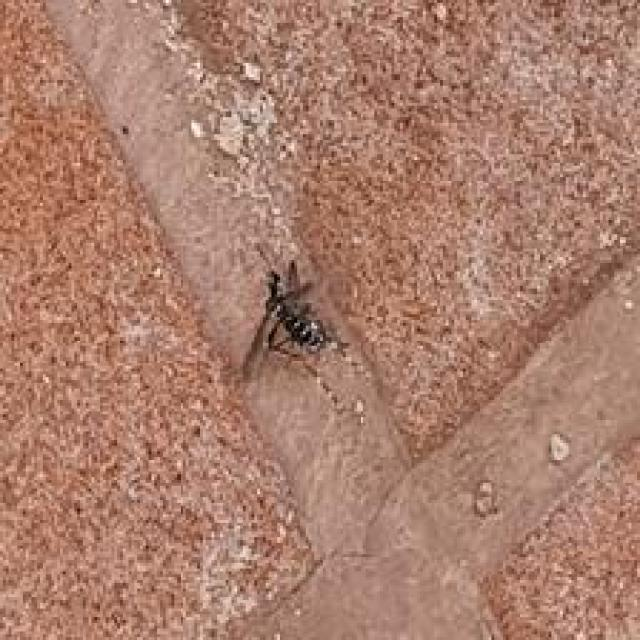Aedes albopictus: (257, 257, 349, 363)
